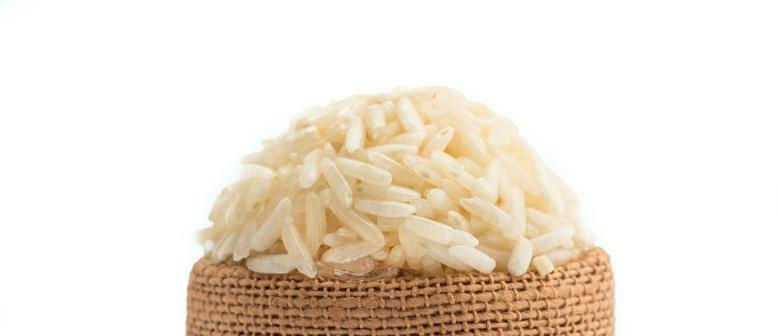WhiteRice: (194, 83, 596, 277)
